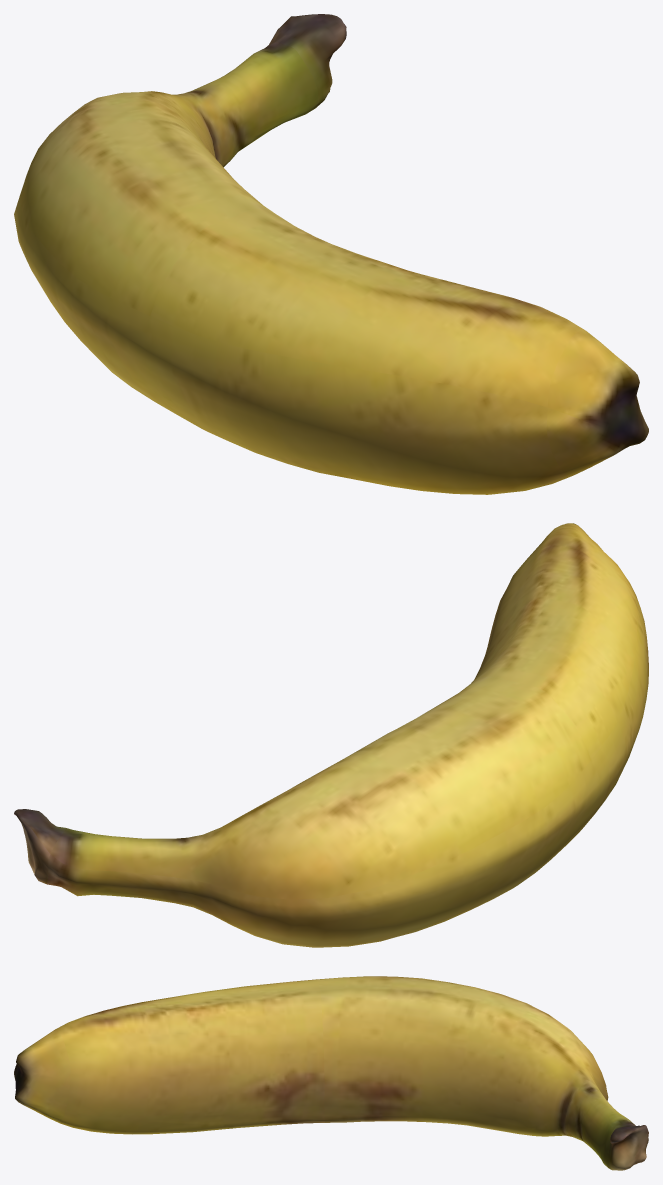
Rendered from bananas__b.glb.
The picture shows the model from 3 angles, top to bottom: view 1: azimuth 30°, elevation 25°; view 2: azimuth 150°, elevation 25°; view 3: azimuth 270°, elevation 25°; orthographic projection. The views are drawn at different scales.
Visible parts, largest first — view 1: Material.008; view 2: Material.008; view 3: Material.008.
Part boxes in pixels (x1,y1,x2,y2): Material.008: [14, 14, 648, 494]; Material.008: [14, 523, 648, 947]; Material.008: [14, 976, 648, 1170].
Bounding box in the file's own units: 0.0991 × 0.0433 × 0.1889.
1 material, 1 textured.
